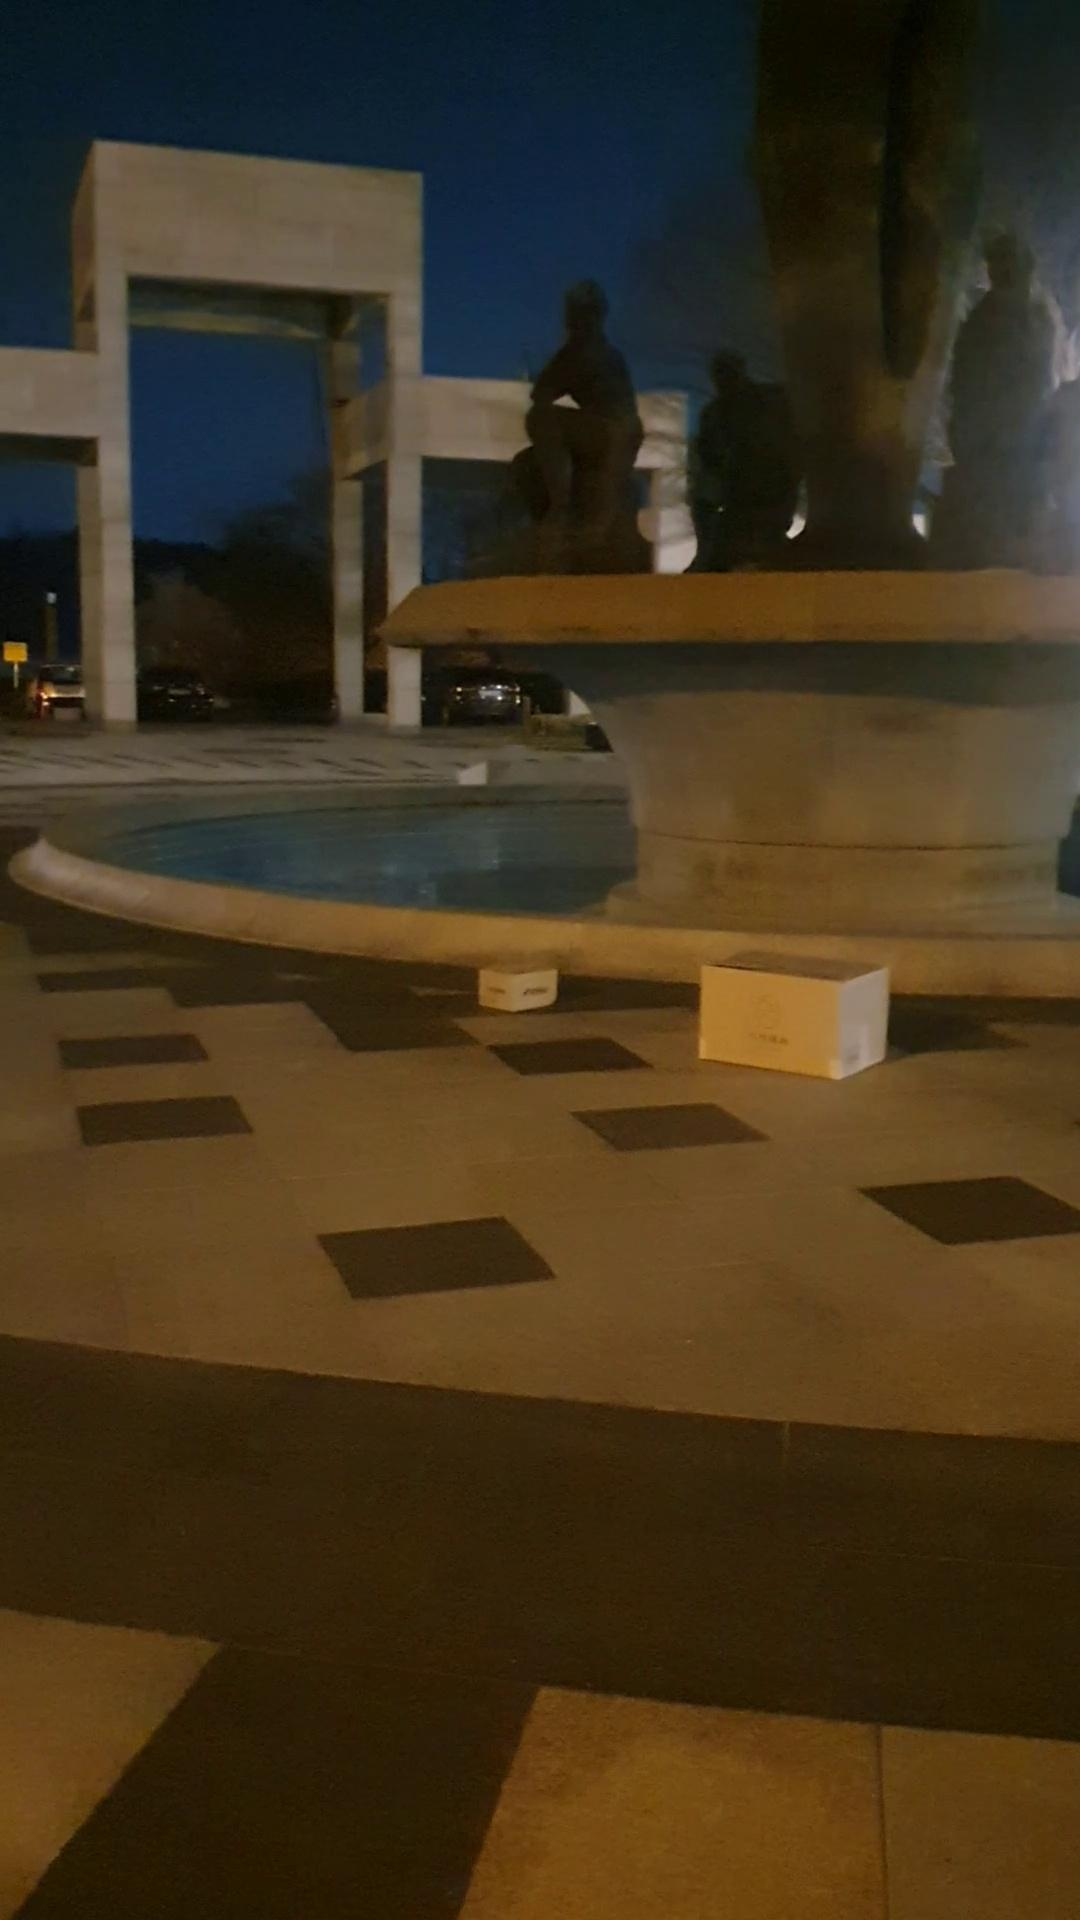Box: (686, 938, 891, 1093), (465, 943, 563, 1015)
